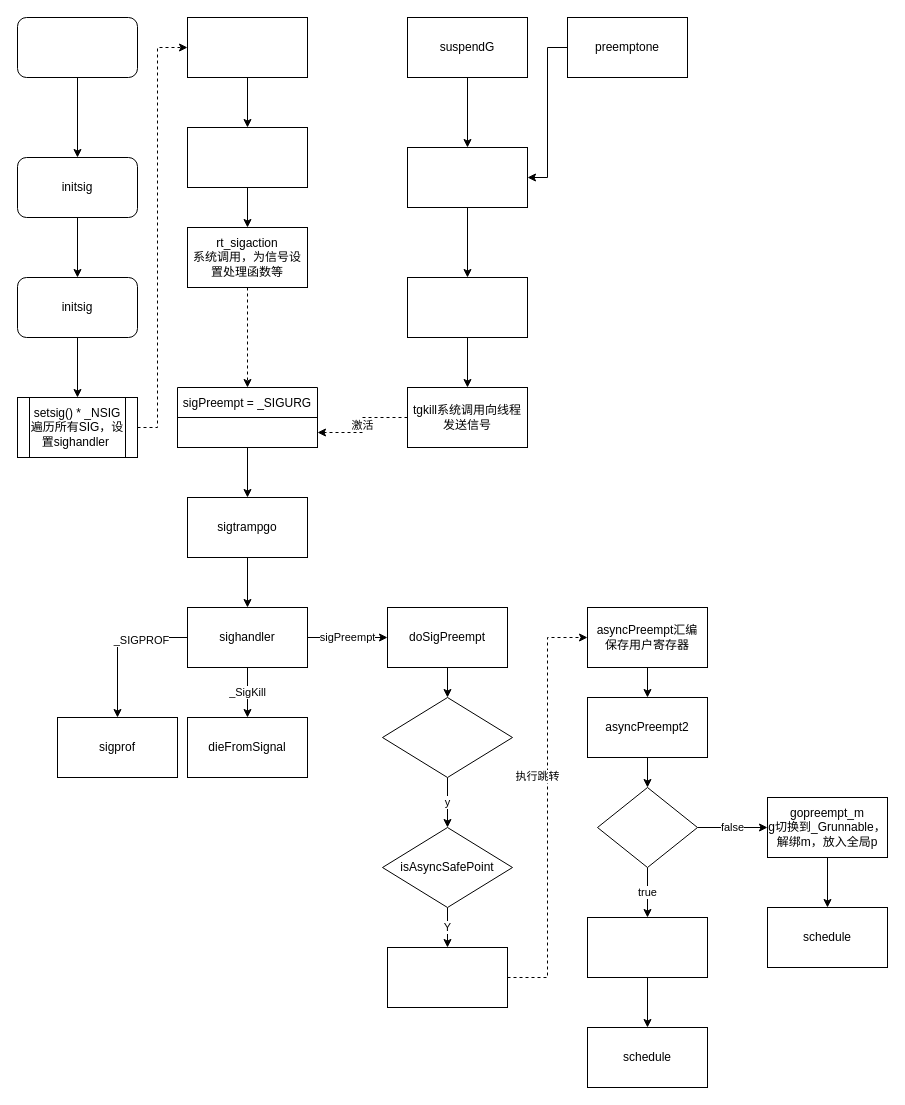
Image size: 905x1105. Some labels were removed from this diagram. The shapes that lost their labels are listed below. From the top down, each one's centre as x and y in pixels, then its label:
At pixel 77 47: "mstartm0".
At pixel 247 47: "sigaction".
At pixel 247 157: "sysSigaction".
At pixel 467 177: "preemptM".
At pixel 467 307: "signalM 发送sigPreempt抢占信号".
At pixel 247 432: "handler ：sigtramp".
At pixel 447 737: "wantAsyncPreempt".
At pixel 647 827: "gp.preemptStop".
At pixel 647 947: "preemptPark 设置g状态_Gpreempted，解绑m".
At pixel 447 977: "g的pc设置为asyncPreempt".
